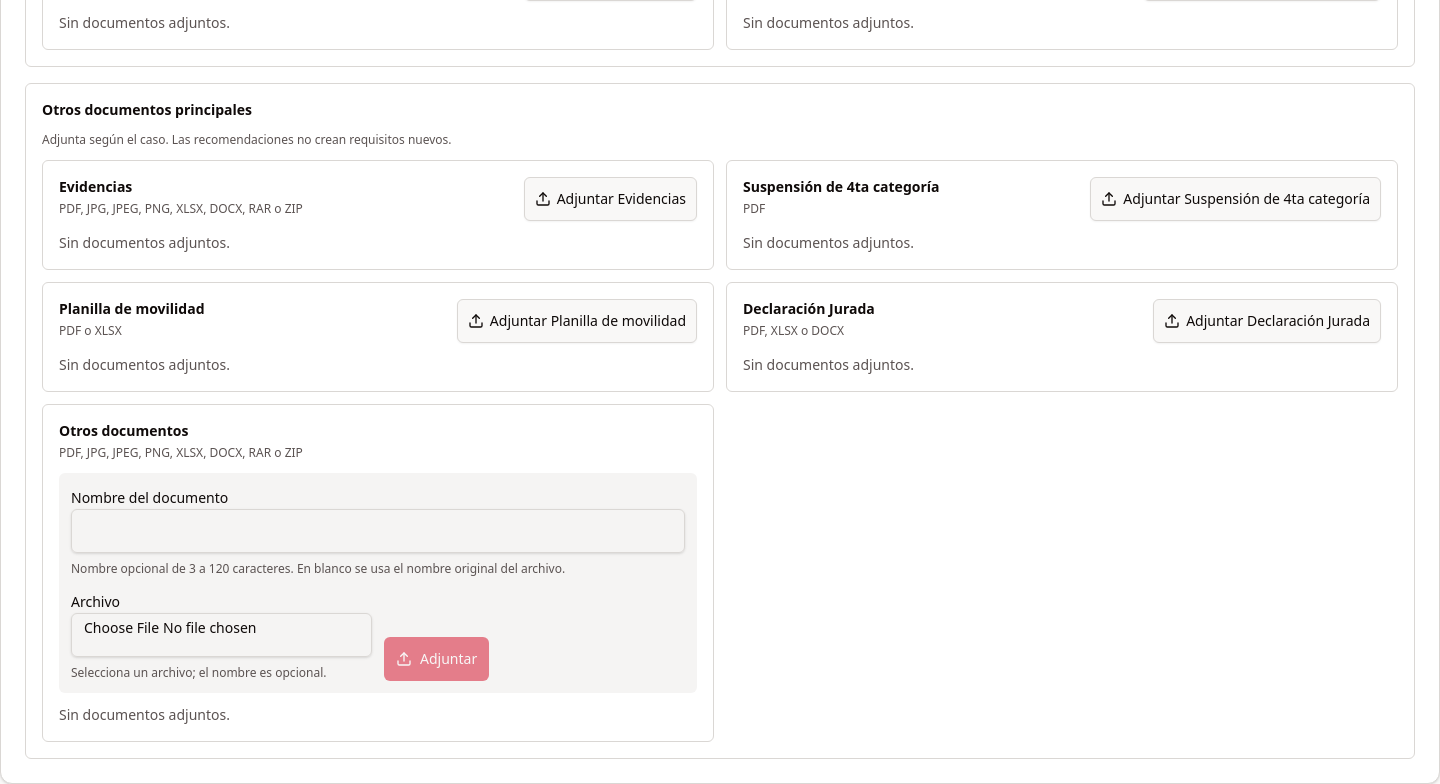
supplier document card approved grouping › blocks OTHER chooser for invalid title ab
(page scrolled)
Type "ab" into the field labelled "Nombre del documento" at [378, 531], box [71,509,685,553]
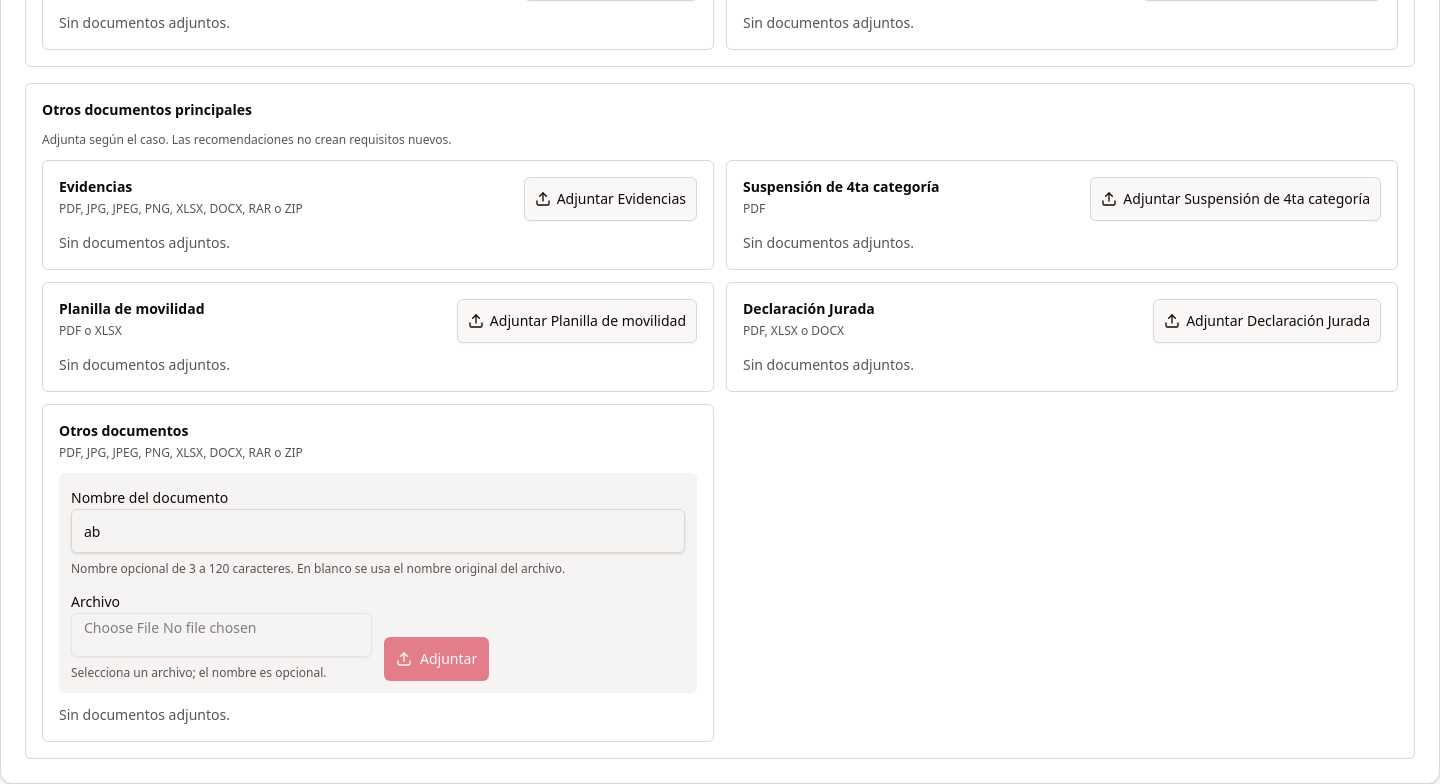
Leave the field labelled "Nombre del documento", box [71,509,685,553]
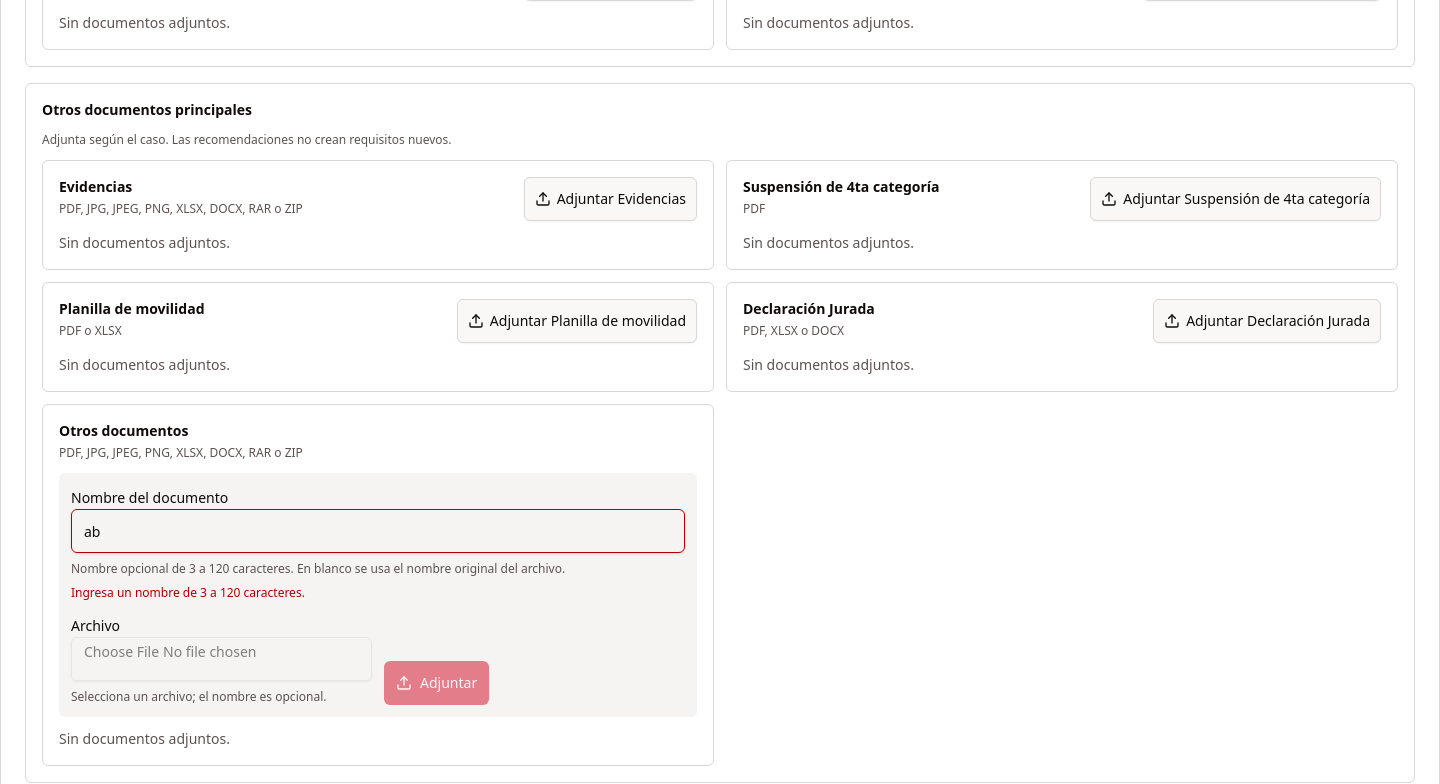
Check: the message does not show "ab", box [71,584,305,601]
Check: the file field named "Archivo de Otros documentos" is disabled, box [71,637,372,681]
Check: the message reads "Ingresa un nombre de 3 a 120 caracteres.", box [71,584,305,601]
